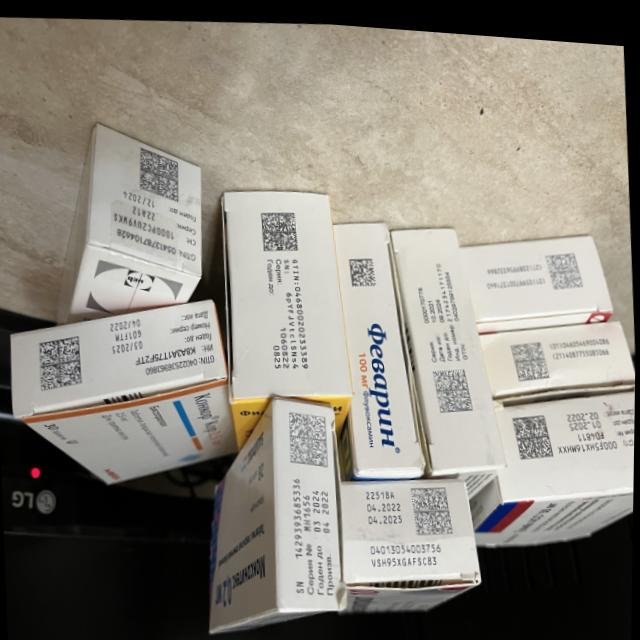datamatrix: (38, 332, 84, 393), (137, 143, 181, 202), (289, 405, 330, 465), (411, 478, 455, 531), (513, 404, 555, 454), (433, 360, 475, 408), (511, 330, 552, 376), (544, 241, 585, 285), (261, 206, 299, 250), (349, 251, 377, 283)
